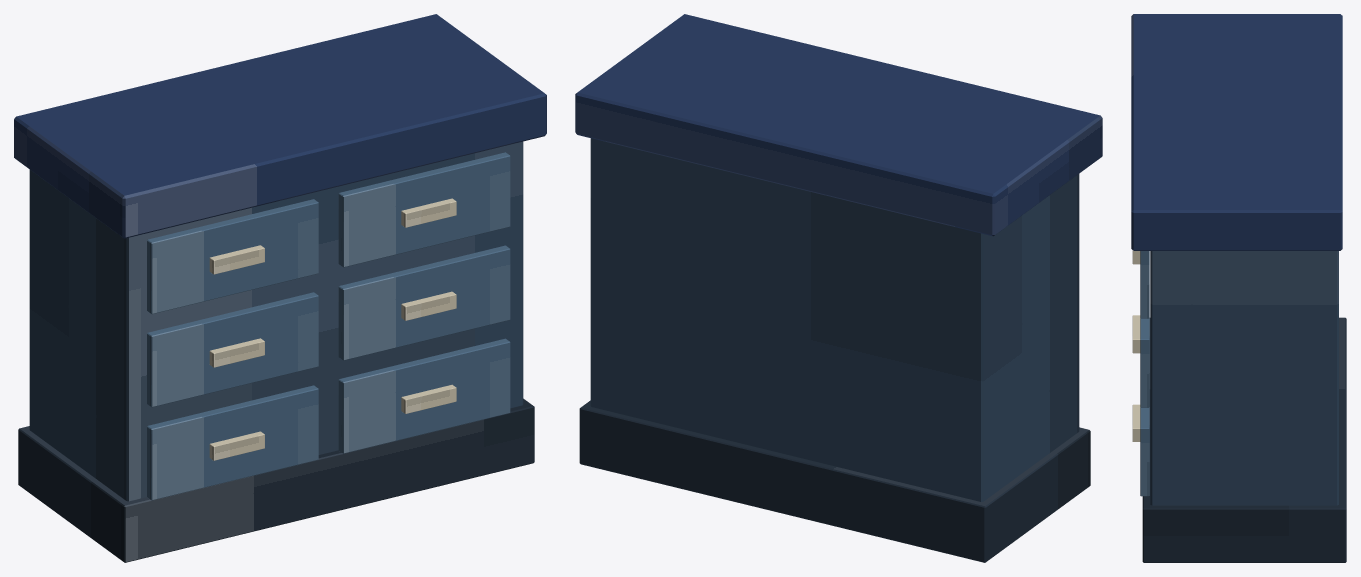
The model's file is bedroom_dresser_navy.glb.
3 renders of one model, left to right at view 1: azimuth 30°, elevation 25°; view 2: azimuth 150°, elevation 25°; view 3: azimuth 270°, elevation 25°, orthographic. The views are drawn at different scales.
Parts seen in each view (by area): view 1: DresserTop, DresserBody, DresserPlinth, DresserDrawer_2_2, DresserDrawer_1_2, DresserDrawer_3_2, DresserDrawer_3_1, DresserDrawer_1_1, DresserDrawer_2_1, DresserHandle_1_1, DresserHandle_2_1, DresserHandle_3_1 (+3 smaller); view 2: DresserBody, DresserTop, DresserPlinth; view 3: DresserTop, DresserBody, DresserPlinth, DresserDrawer_2_2, DresserDrawer_3_2, DresserDrawer_1_2, DresserHandle_2_2, DresserHandle_3_2.
Boxes of the visible parts, box(x1,y1,x2,y2) form: DresserTop: box(14, 14, 546, 238); DresserBody: box(29, 141, 523, 501); DresserPlinth: box(18, 398, 534, 562); DresserDrawer_2_2: box(338, 245, 510, 360); DresserDrawer_1_2: box(338, 152, 510, 267); DresserDrawer_3_2: box(338, 338, 510, 453); DresserDrawer_3_1: box(147, 385, 318, 500); DresserDrawer_1_1: box(147, 199, 318, 314); DresserDrawer_2_1: box(147, 292, 318, 407); DresserHandle_1_1: box(209, 245, 264, 274); DresserHandle_2_1: box(209, 338, 264, 367); DresserHandle_3_1: box(209, 431, 264, 460); DresserBody: box(590, 138, 1079, 501); DresserTop: box(575, 14, 1102, 236); DresserPlinth: box(579, 400, 1090, 562); DresserTop: box(1131, 14, 1342, 250); DresserBody: box(1150, 251, 1338, 505); DresserPlinth: box(1142, 317, 1346, 562); DresserDrawer_2_2: box(1140, 318, 1149, 407); DresserDrawer_3_2: box(1140, 407, 1149, 496); DresserDrawer_1_2: box(1140, 251, 1149, 318); DresserHandle_2_2: box(1132, 316, 1140, 353); DresserHandle_3_2: box(1132, 404, 1140, 441).
Size of the model in its own units: 1.24 by 1.04 by 0.57.
1 material, 1 textured.
